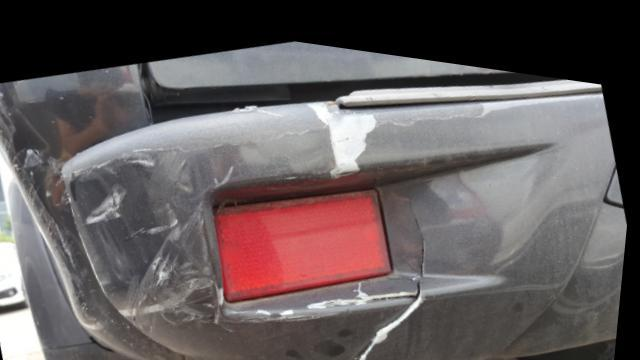crack: (352, 177, 431, 360)
dislocated part: (60, 57, 630, 360)
rub: (78, 142, 378, 324)
